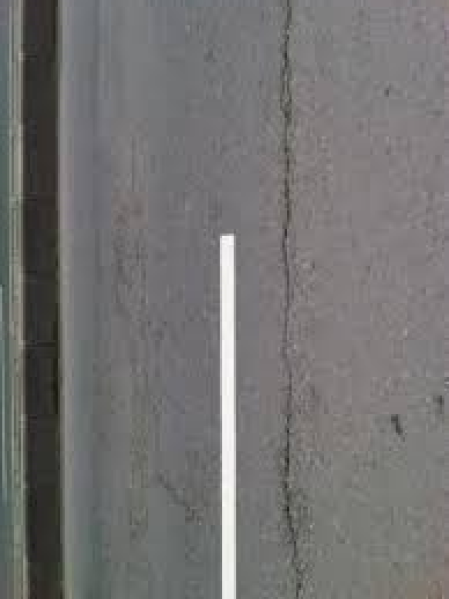Retak Memanjang: (256, 1, 315, 599)
